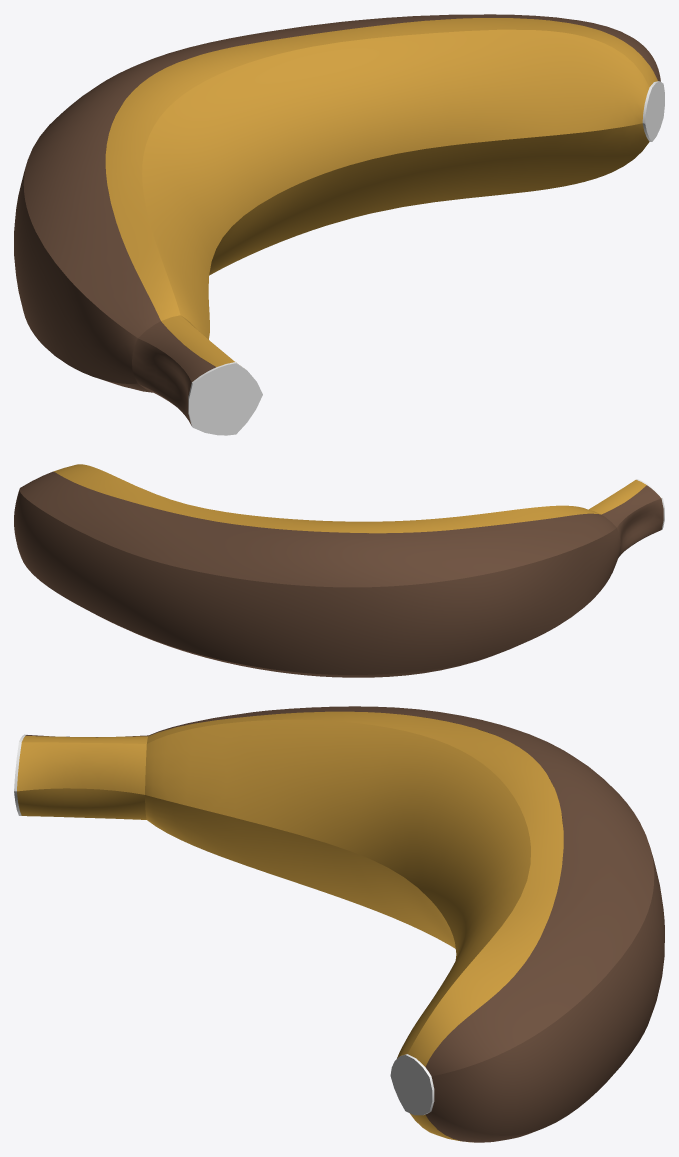
File: Banana.fbx
3 renders of one model, top to bottom at view 1: azimuth 30°, elevation 25°; view 2: azimuth 150°, elevation 25°; view 3: azimuth 270°, elevation 25°, orthographic. The views are drawn at different scales.
Visible parts, largest first — view 1: Body-2 - Part, Body - Part, Body - Part 2; view 2: Body - Part, Body-2 - Part; view 3: Body-2 - Part, Body - Part, Body - Part 2.
Boxes of the visible parts, box(x1,y1,x2,y2) form: Body-2 - Part: box(105, 18, 657, 366); Body - Part: box(14, 14, 660, 425); Body - Part 2: box(188, 81, 664, 435); Body - Part: box(14, 471, 663, 677); Body-2 - Part: box(53, 464, 646, 533); Body-2 - Part: box(17, 711, 563, 1142); Body - Part: box(25, 706, 664, 1142); Body - Part 2: box(14, 734, 434, 1115).
Bounding box in the file's own units: 28524 × 8006 × 22676.
